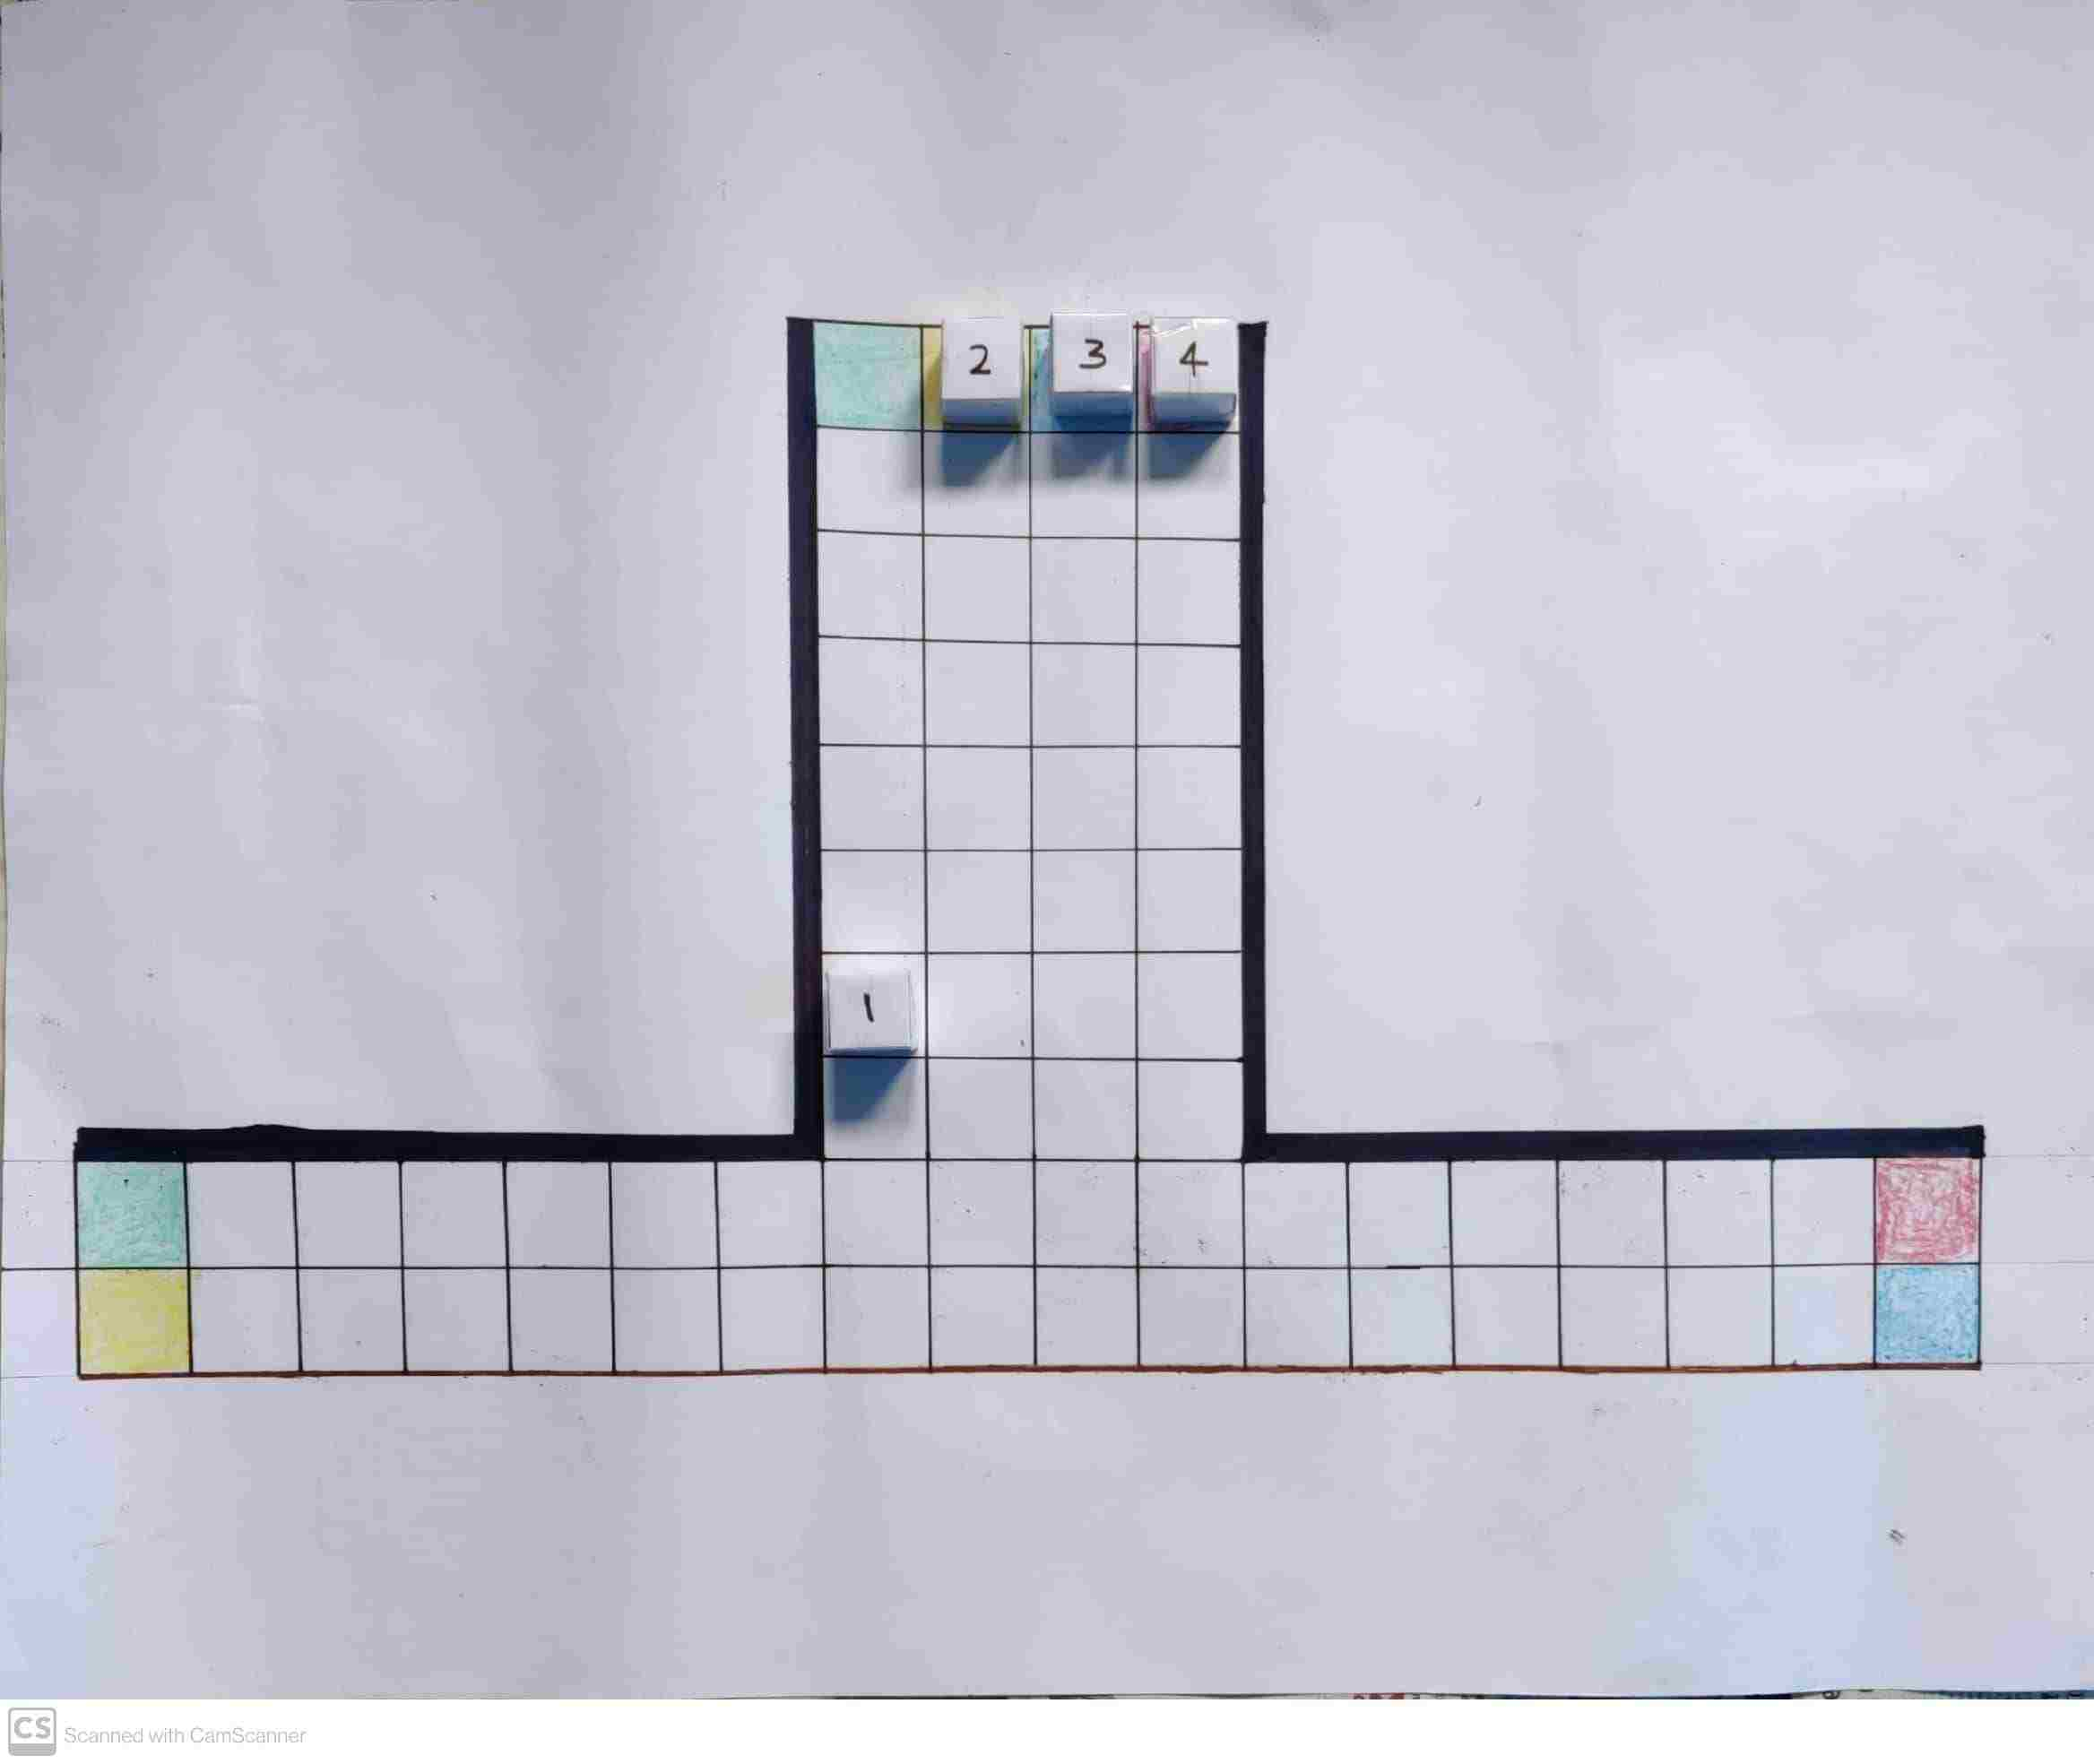arena: (79, 315, 1984, 1386)
bot: (1151, 315, 1242, 399), (829, 968, 917, 1050), (1051, 313, 1137, 394), (941, 318, 1025, 399)
